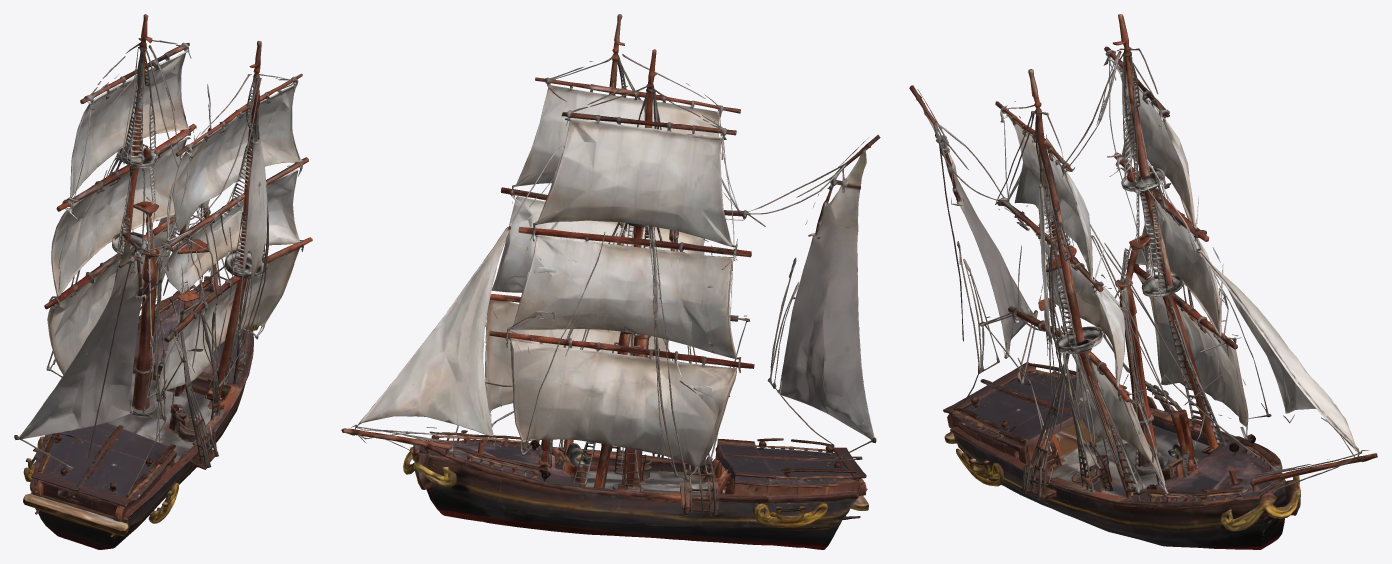
The model's file is boat_lod1.glb.
3 views of the same model, side by side, from view 1: azimuth 30°, elevation 25°; view 2: azimuth 150°, elevation 25°; view 3: azimuth 270°, elevation 25° (orthographic). The views are drawn at different scales.
Bounding box in the file's own units: 0.7304 × 0.9497 × 0.7743.
1 material, 1 textured.
